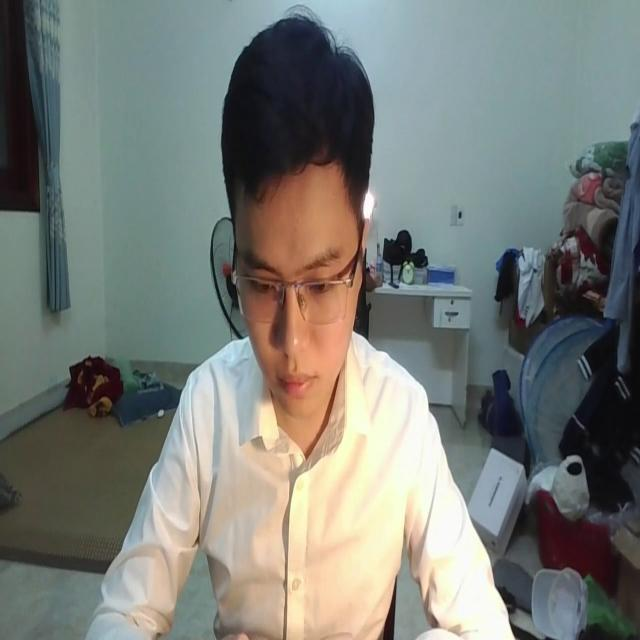student: (86, 15, 514, 640)
